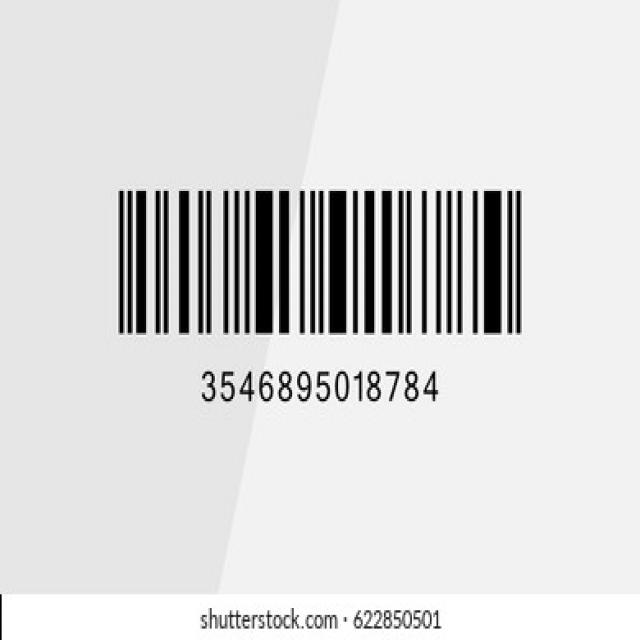Barkod: (107, 176, 531, 420)
